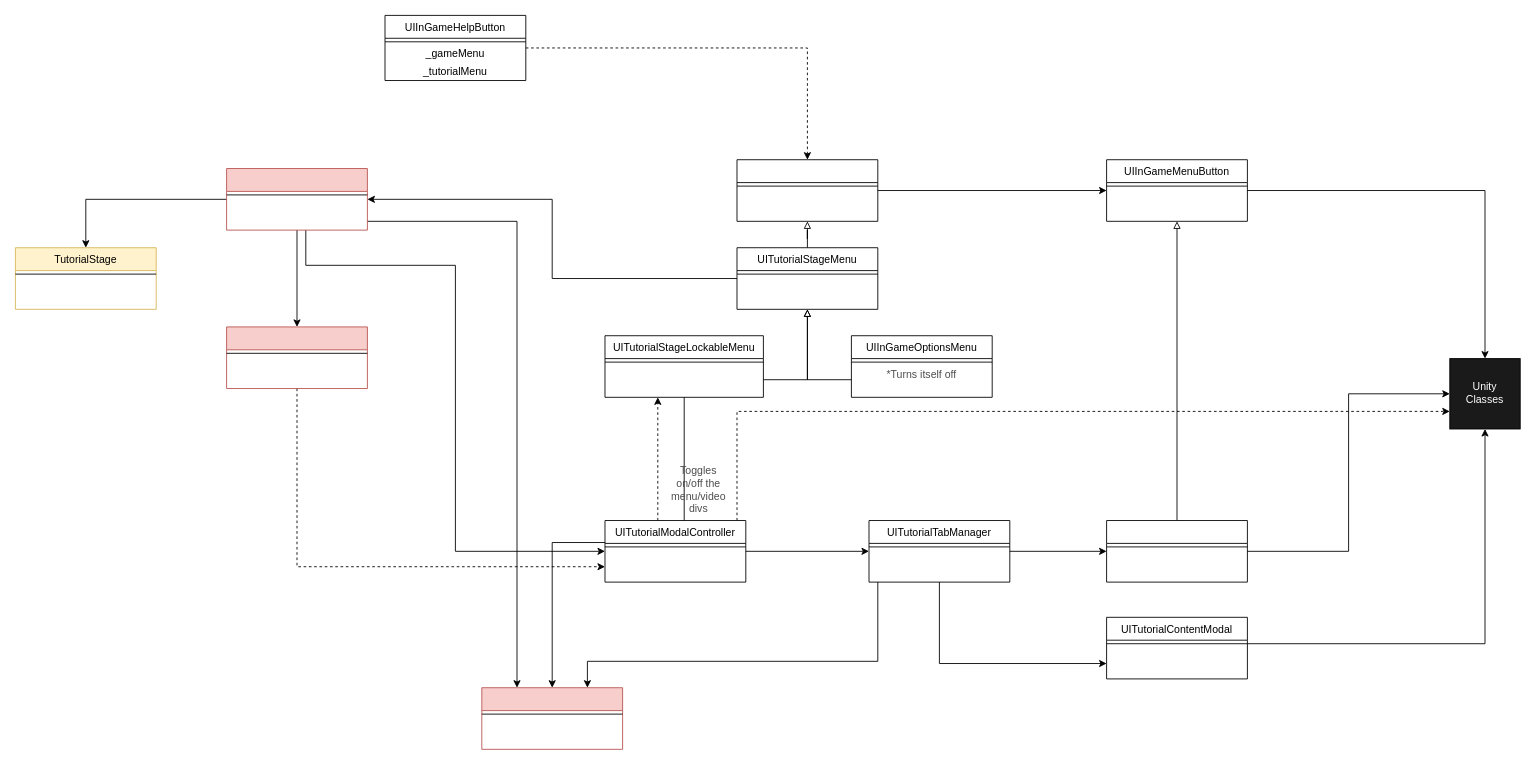
Image size: 1536x765. Some labels were removed from this diagram. Here are the shapes that lost their labels. From the top down, the centre of each, then its label:
the point at 296,199: TutorialManager
the point at 807,190: UIMenuController
the point at 296,357: TutoriaLogic
the point at 1176,551: UITutorialTab
the point at 552,718: TutorialUnlocks
